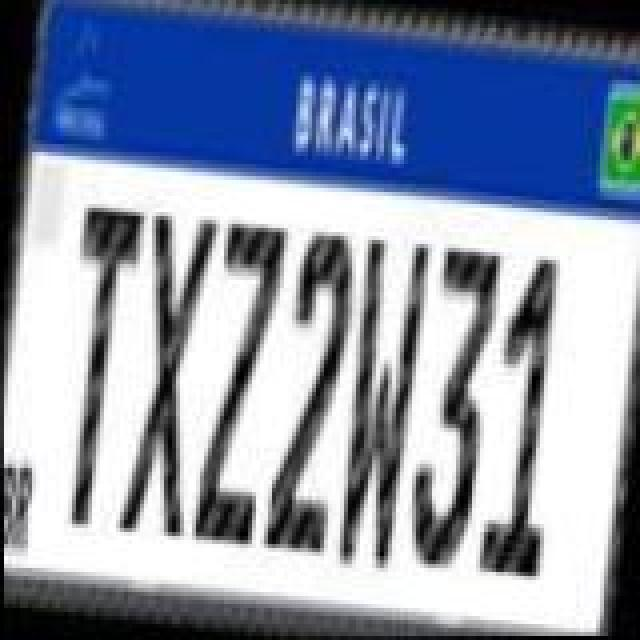1: (472, 248, 580, 584)
2: (260, 222, 364, 558)
3: (392, 240, 500, 580)
T: (44, 198, 148, 538)
W: (324, 232, 436, 576)
X: (116, 204, 220, 544)
Z: (190, 220, 290, 556)
